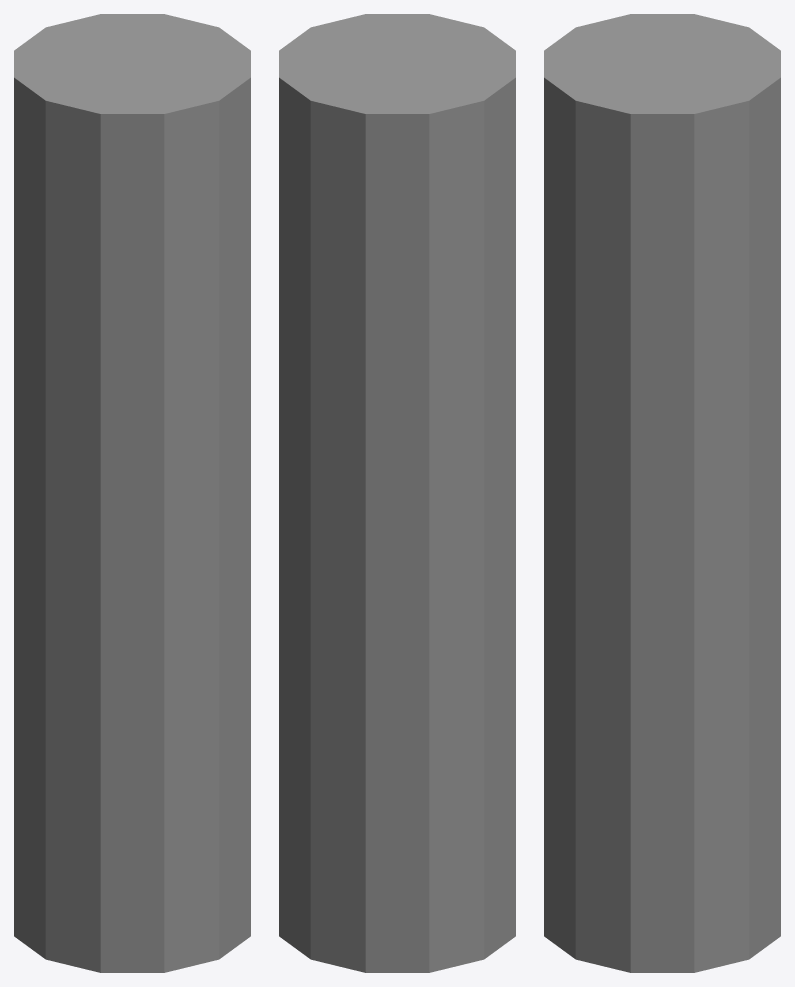
The model's file is dropperPole.obj.
3 renders of one model, left to right at view 1: azimuth 30°, elevation 25°; view 2: azimuth 150°, elevation 25°; view 3: azimuth 270°, elevation 25°, orthographic.
Visible parts, largest first — view 1: cylinder; view 2: cylinder; view 3: cylinder.
Boxes of the visible parts, box(x1,y1,x2,y2) form: cylinder: box(14, 14, 250, 972); cylinder: box(279, 14, 515, 972); cylinder: box(544, 14, 780, 972).
Size of the model in its own units: 0.5 by 2 by 0.5.
